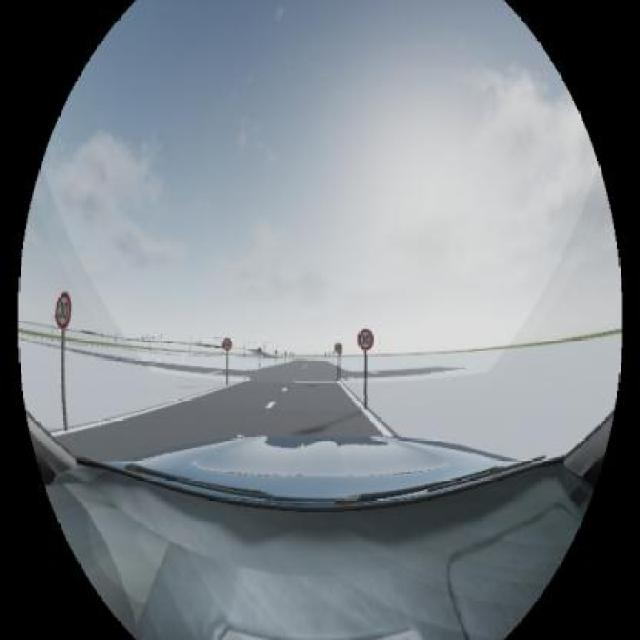forb_speed_over_30: (358, 328, 373, 351)
